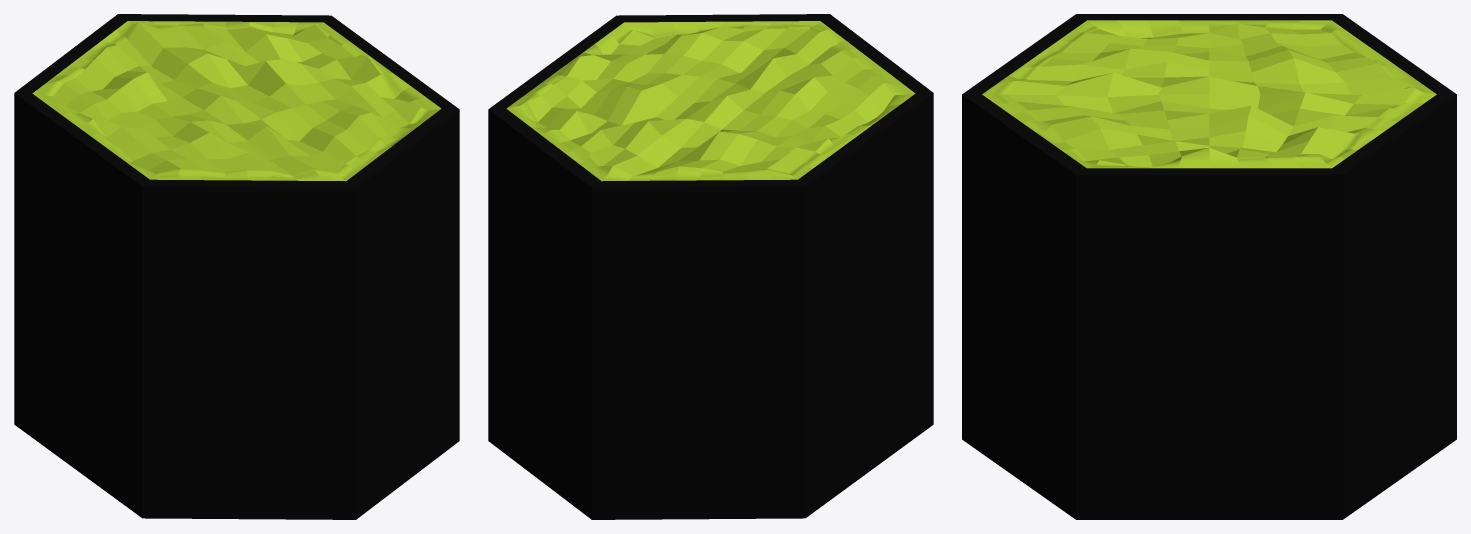
The model's file is sand-hex.obj.
3 views of the same model, side by side, from view 1: azimuth 30°, elevation 25°; view 2: azimuth 150°, elevation 25°; view 3: azimuth 270°, elevation 25° (orthographic). The views are drawn at different scales.
Visible parts, largest first — view 1: Cube; view 2: Cube; view 3: Cube.
Part boxes in pixels (left/top/right/bottom): Cube: left=14, top=14, right=459, bottom=519; Cube: left=488, top=14, right=933, bottom=519; Cube: left=962, top=14, right=1456, bottom=519.
Size of the model in its own units: 2 by 2.08 by 2.6.
